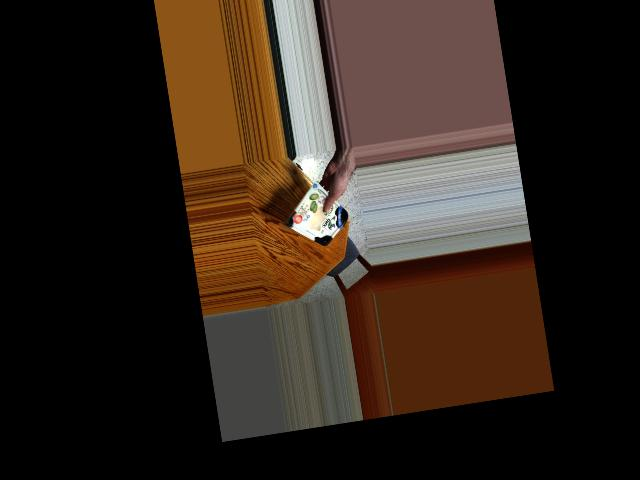cheese: (289, 189, 351, 244)
